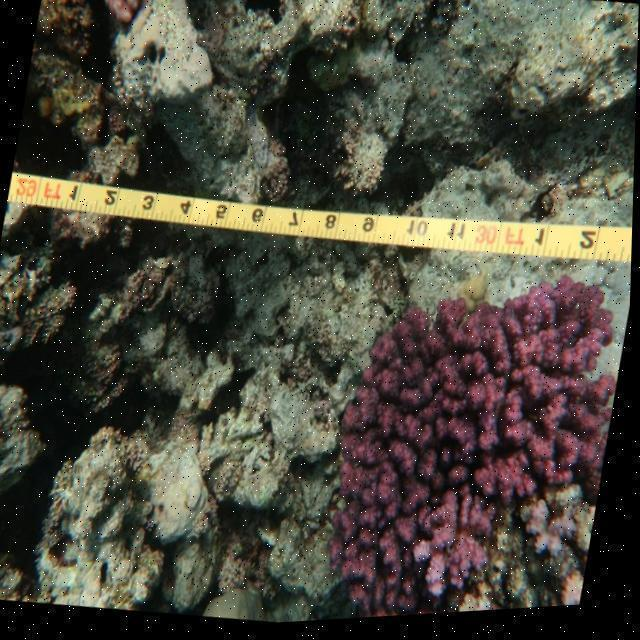Healthy Coral: (307, 243, 634, 625)
